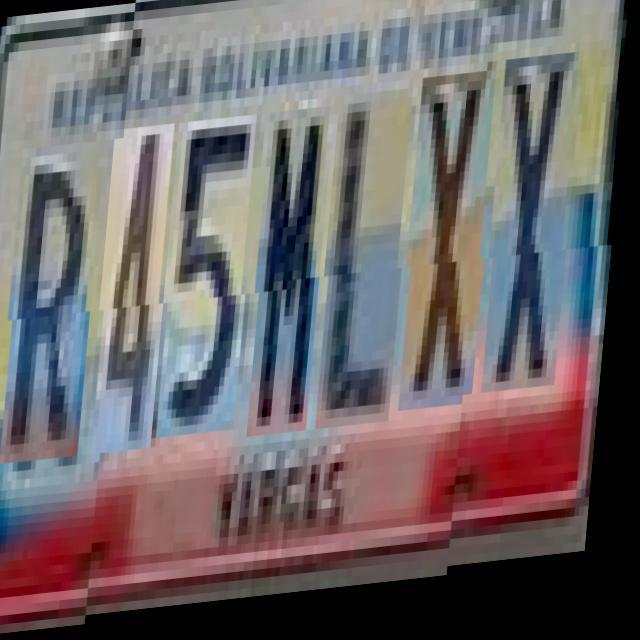4: (100, 128, 182, 458)
5: (164, 120, 264, 442)
L: (324, 98, 420, 438)
M: (255, 114, 337, 444)
R: (9, 134, 109, 456)
X: (407, 81, 503, 422), (489, 74, 585, 414)
